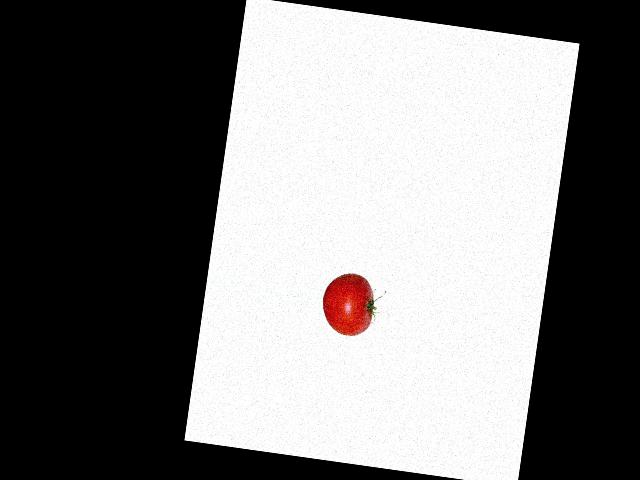tomato: (318, 270, 377, 338)
